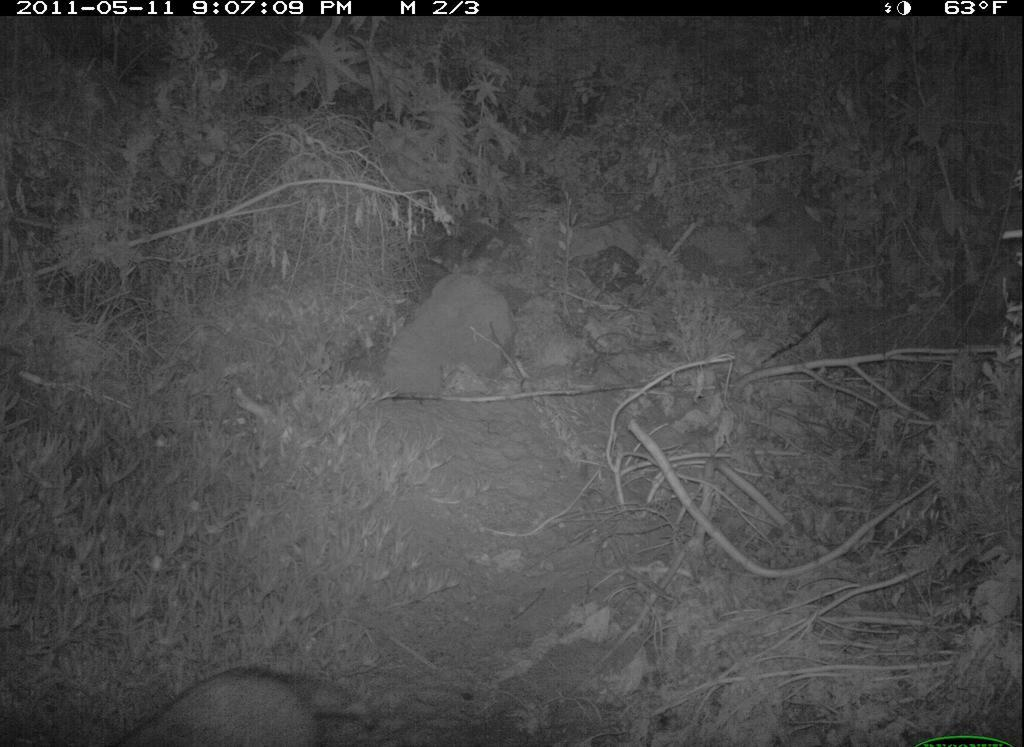raccoon: (112, 661, 383, 747)
